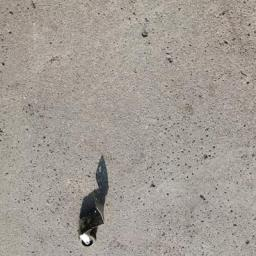FOD: (75, 163, 121, 249)
